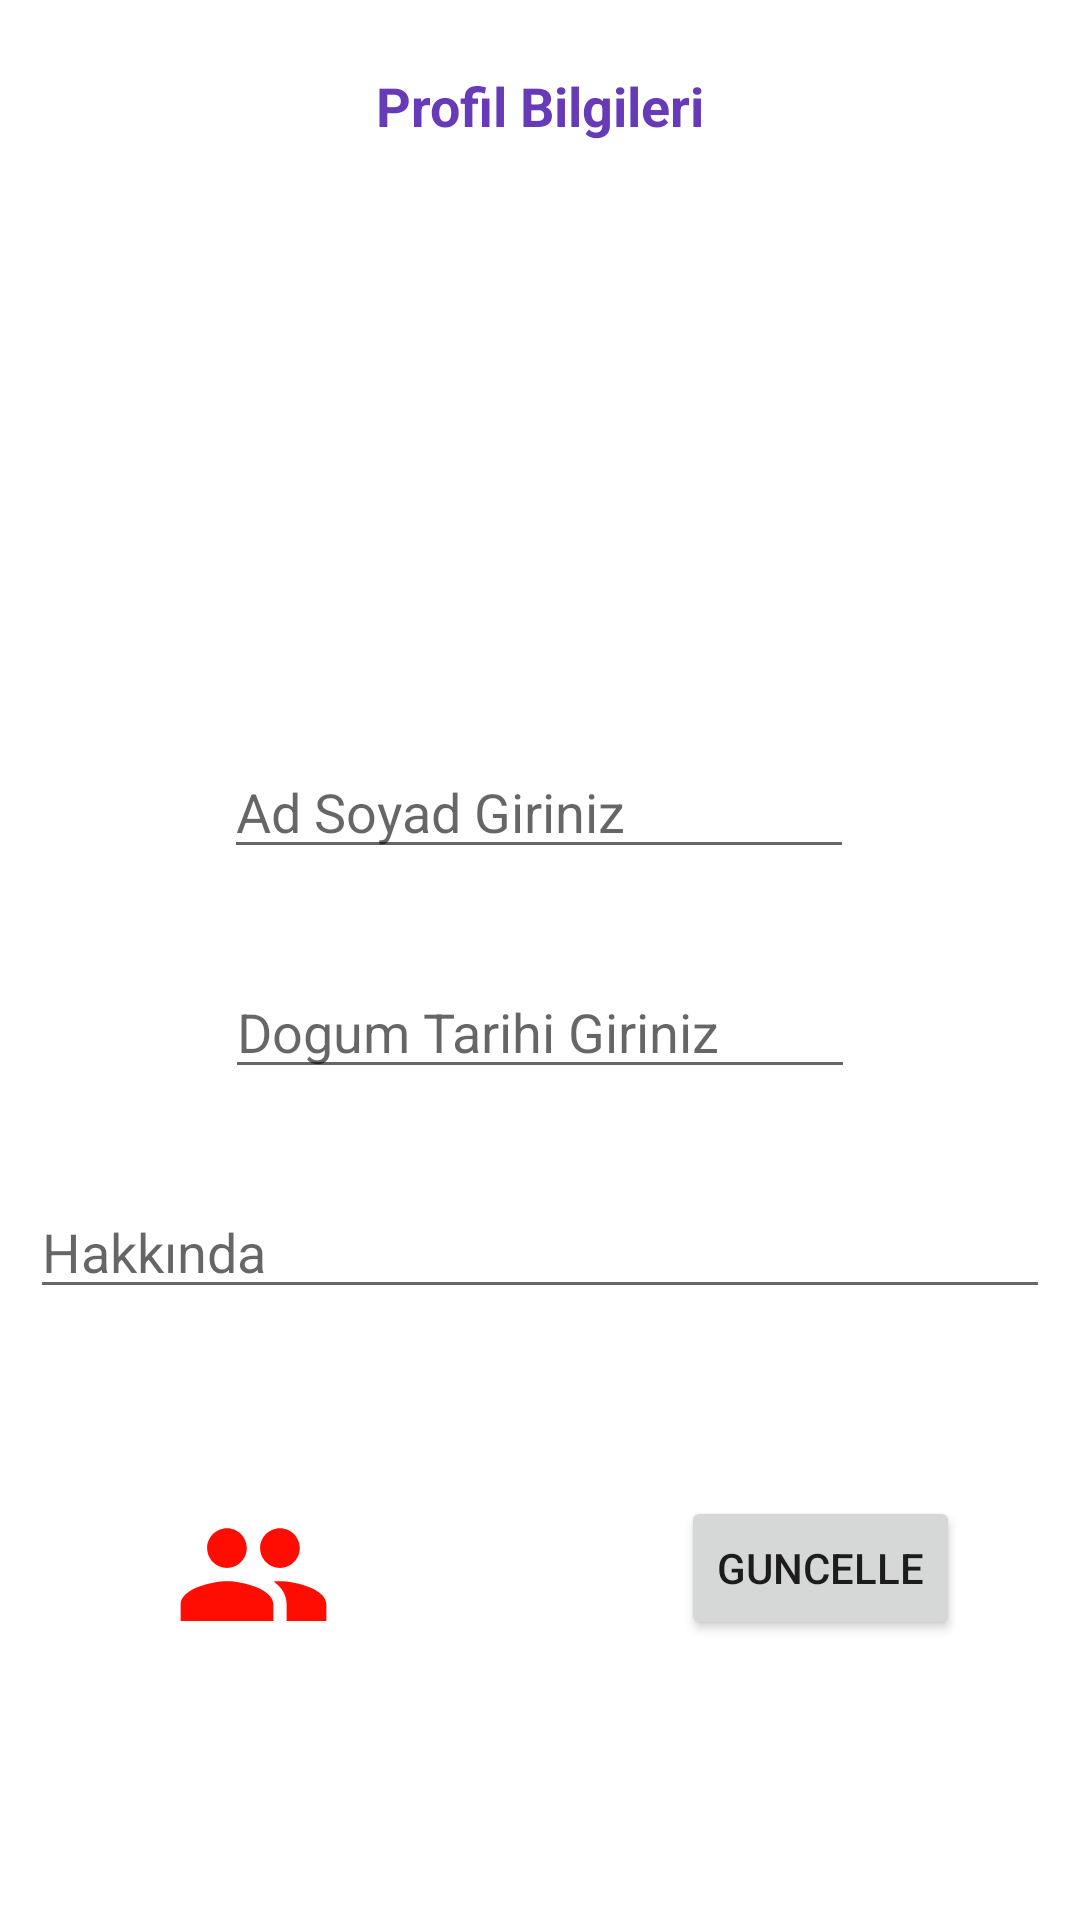

Screen size 1080 x 1920. Icon name, then its box in pixels as (x1, y1, x2, y2):
people: (180, 1528, 327, 1621)
